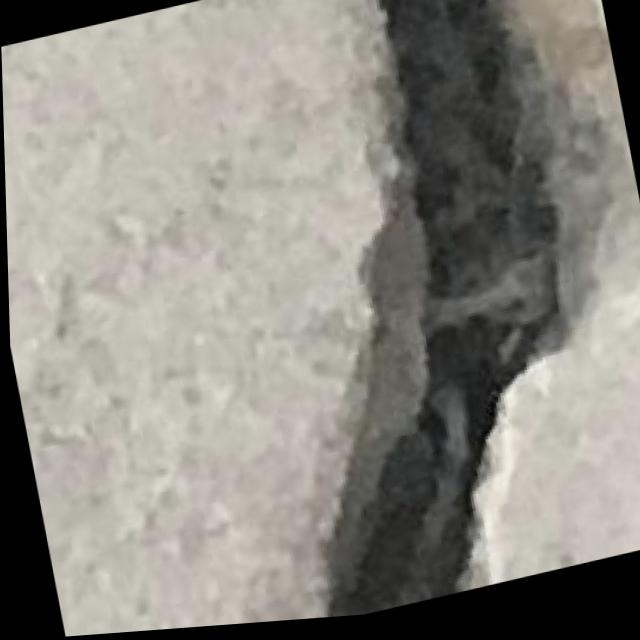Crack: (207, 0, 625, 628)
